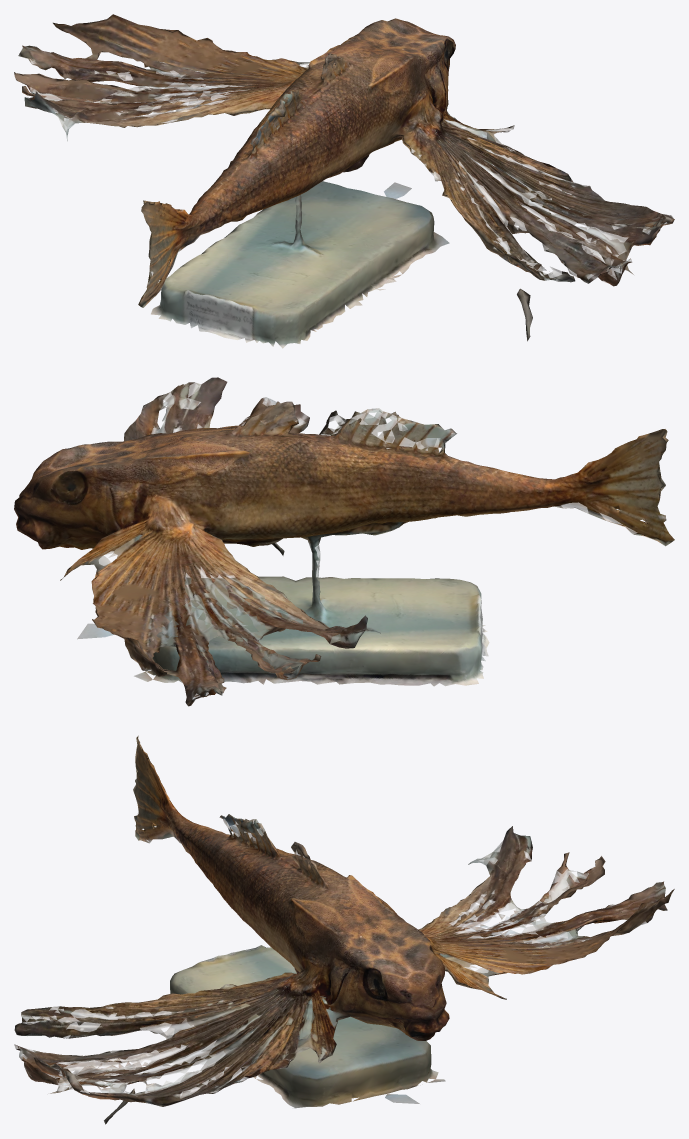
3 views of the same model, one above another, from view 1: azimuth 30°, elevation 25°; view 2: azimuth 150°, elevation 25°; view 3: azimuth 270°, elevation 25° (orthographic). The views are drawn at different scales.
Parts seen in each view (by area): view 1: model_aligned; view 2: model_aligned; view 3: model_aligned.
Boxes of the visible parts, left/top/right/bottom form: model_aligned: left=14, top=14, right=674, bottom=348; model_aligned: left=14, top=377, right=674, bottom=706; model_aligned: left=14, top=735, right=674, bottom=1124.
Bounding box in the file's own units: 1.17 × 0.5226 × 1.34.
Materials: 2 (2 with a texture image).
